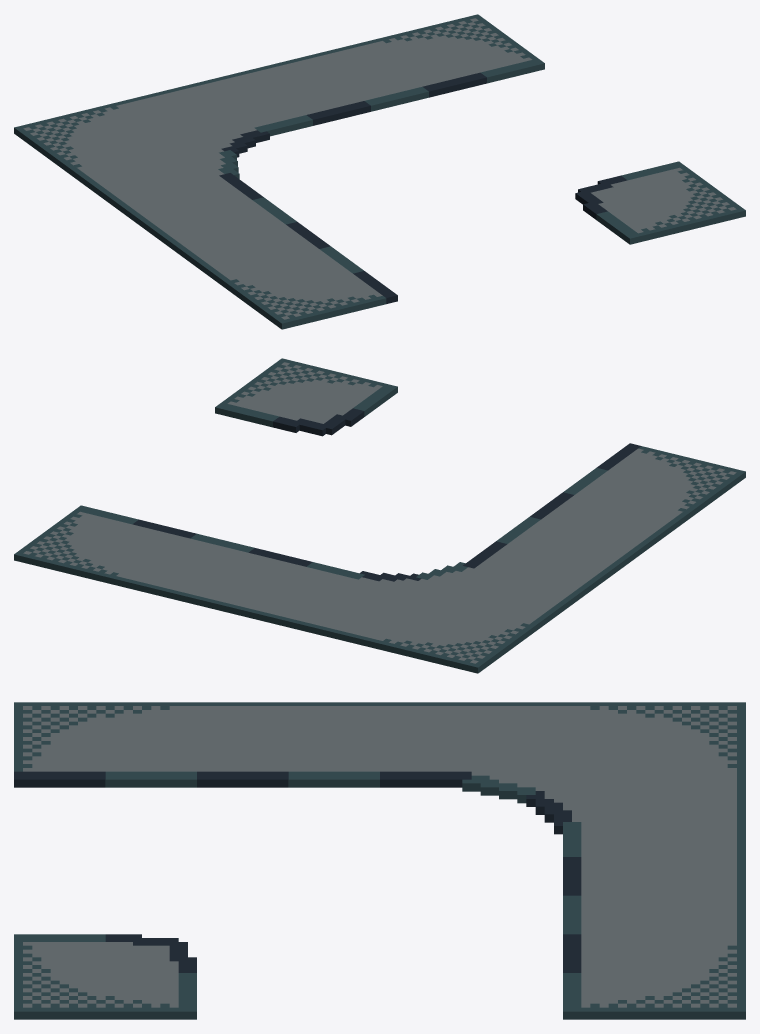
File: road_2_overtile.obj
The picture shows the model from 3 angles, top to bottom: view 1: azimuth 30°, elevation 25°; view 2: azimuth 150°, elevation 25°; view 3: azimuth 270°, elevation 25°; orthographic projection. The views are drawn at different scales.
Size of the model in its own units: 8 by 0.1 by 8.
1 material, 1 textured.
